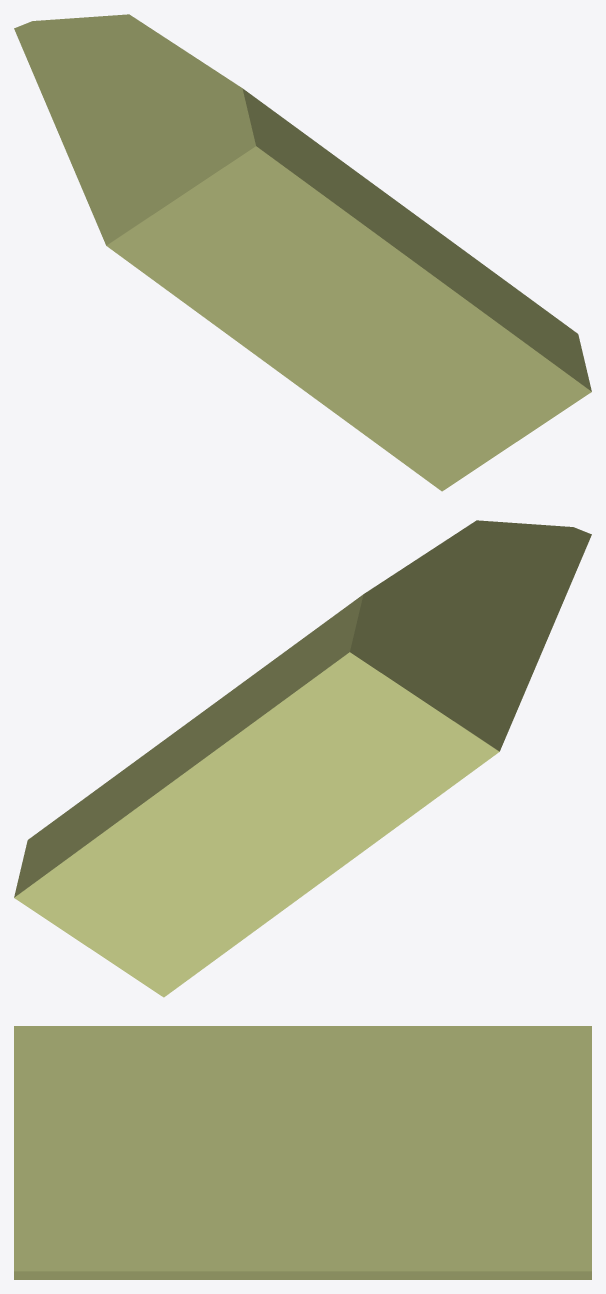
3 views of the same model, one above another, from view 1: azimuth 30°, elevation 25°; view 2: azimuth 150°, elevation 25°; view 3: azimuth 270°, elevation 25° (orthographic). The views are drawn at different scales.
Visible parts, largest first — view 1: 0_1_3_2_1_2_0_1_2_2_3; view 2: 0_1_3_2_1_2_0_1_2_2_3; view 3: 0_1_3_2_1_2_0_1_2_2_3.
Part boxes in pixels (x1,y1,x2,y2): 0_1_3_2_1_2_0_1_2_2_3: (14, 14, 591, 491); 0_1_3_2_1_2_0_1_2_2_3: (14, 520, 591, 997); 0_1_3_2_1_2_0_1_2_2_3: (14, 1026, 591, 1279).
Bounding box in the file's own units: 3.75 × 3.59 × 9.
